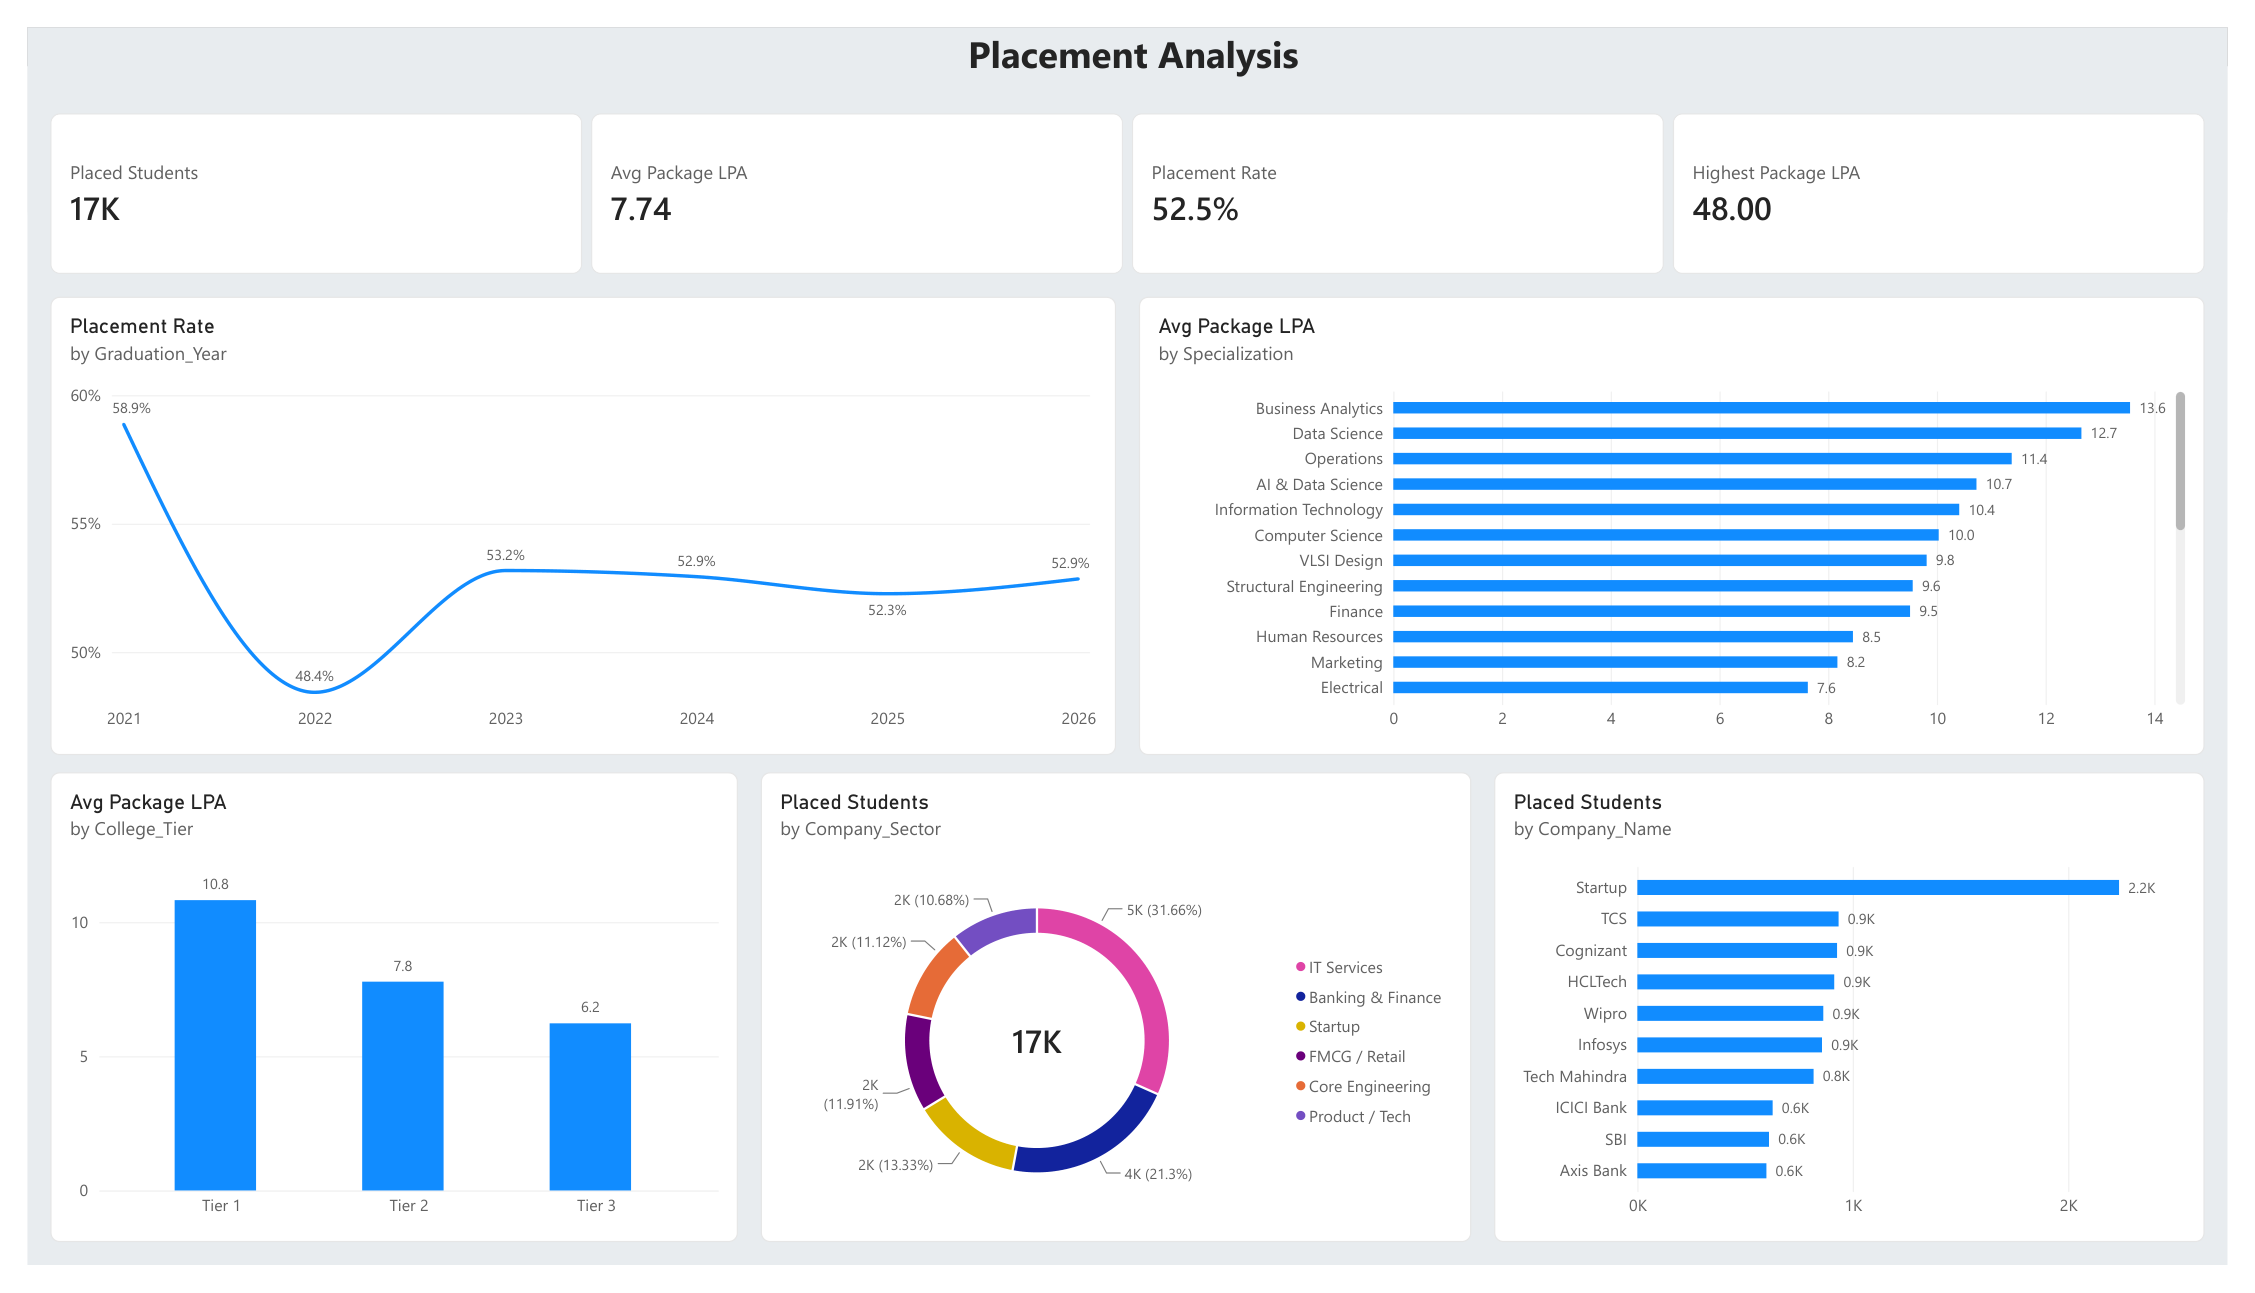

The page's visual inventory and layout, read from the dashboard file:
{"tool":"powerbi","page":{"name":"Placement Analysis","canvas":[1920,1080],"ordinal":2},"visuals":[{"type":"textbox","box":[10,0,1910,60],"z":0},{"type":"cardVisual","fields":{"Data":["Students.Placed Students","Students.Avg Package LPA","Students.Placement Rate","Students.Highest Package LPA"]},"box":[20,75,1880,140],"z":1},{"type":"lineChart","fields":{"Category":["Students.Graduation_Year"],"Y":["Students.Placement Rate"]},"box":[20,235,930,400],"z":2},{"type":"clusteredBarChart","fields":{"Category":["Students.Specialization"],"Y":["Students.Avg Package LPA"]},"box":[970,235,930,400],"z":3},{"type":"clusteredColumnChart","fields":{"Category":["Students.College_Tier"],"Y":["Students.Avg Package LPA"]},"box":[20,650,600,410],"z":4},{"type":"donutChart","fields":{"Category":["Students.Company_Sector"],"Y":["Students.Placed Students"]},"box":[640,650,620,410],"z":5},{"type":"clusteredBarChart","fields":{"Category":["Students.Company_Name"],"Y":["Students.Placed Students"]},"box":[1280,650,620,410],"z":6}]}

Visuals, with their boxes in screenshot pixels (x1, y1, x2, y2), scaled from the page's 1920x1080 canvas onto the 2255x1293 screenshot:
textbox: bbox=[12, 0, 2254, 72]
cardVisual - Students.Placed Students x Students.Avg Package LPA: bbox=[23, 90, 2232, 257]
lineChart - Students.Graduation_Year x Students.Placement Rate: bbox=[23, 281, 1116, 760]
clusteredBarChart - Students.Specialization x Students.Avg Package LPA: bbox=[1139, 281, 2232, 760]
clusteredColumnChart - Students.College_Tier x Students.Avg Package LPA: bbox=[23, 778, 728, 1269]
donutChart - Students.Company_Sector x Students.Placed Students: bbox=[752, 778, 1480, 1269]
clusteredBarChart - Students.Company_Name x Students.Placed Students: bbox=[1503, 778, 2232, 1269]
